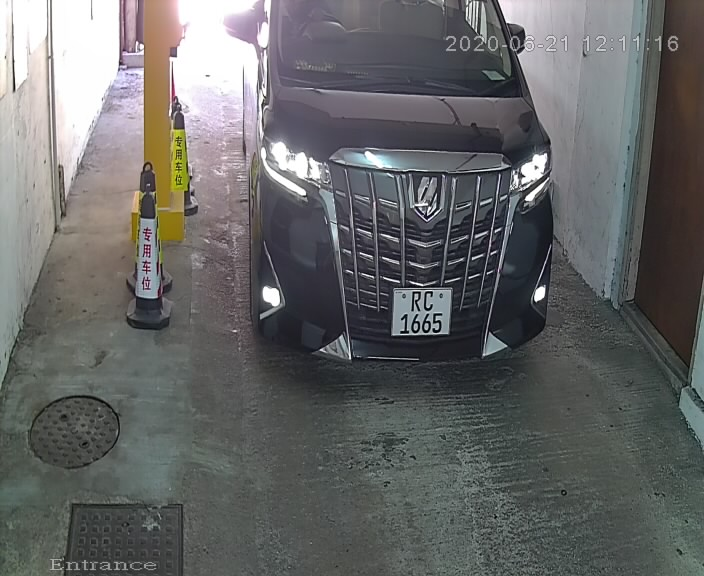privatecar: (223, 1, 561, 380)
